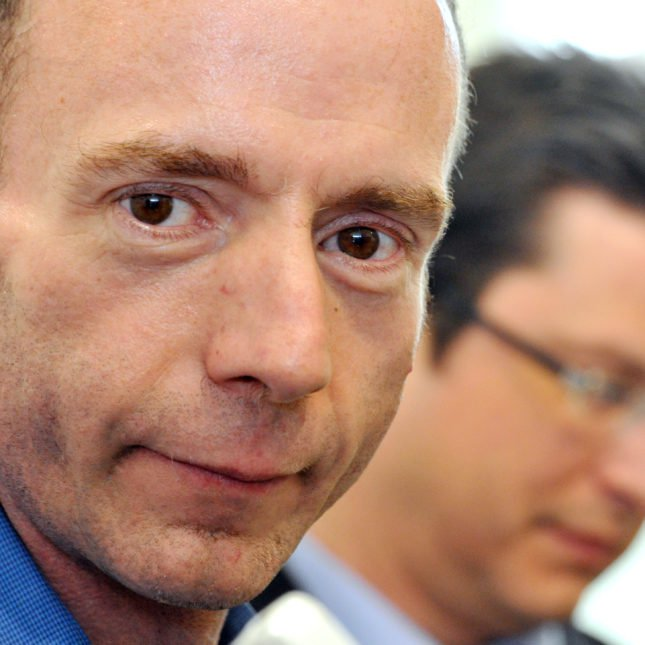noMask: (2, 1, 472, 614), (393, 58, 645, 607)
